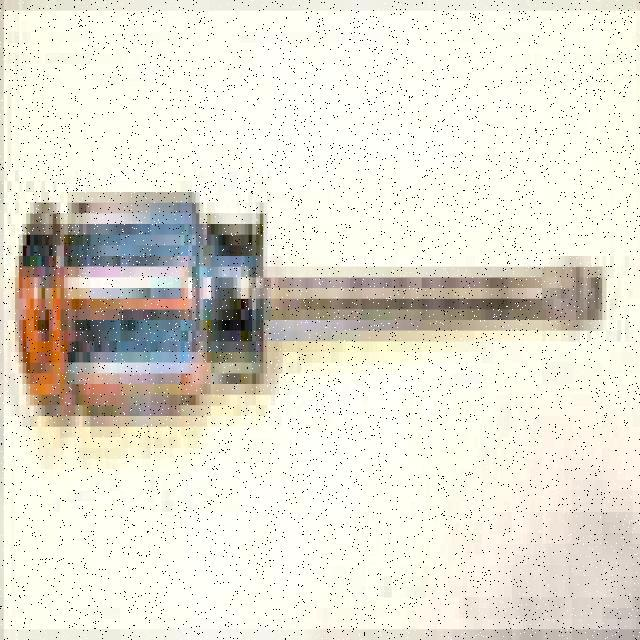screwdriver: (16, 196, 603, 404)
